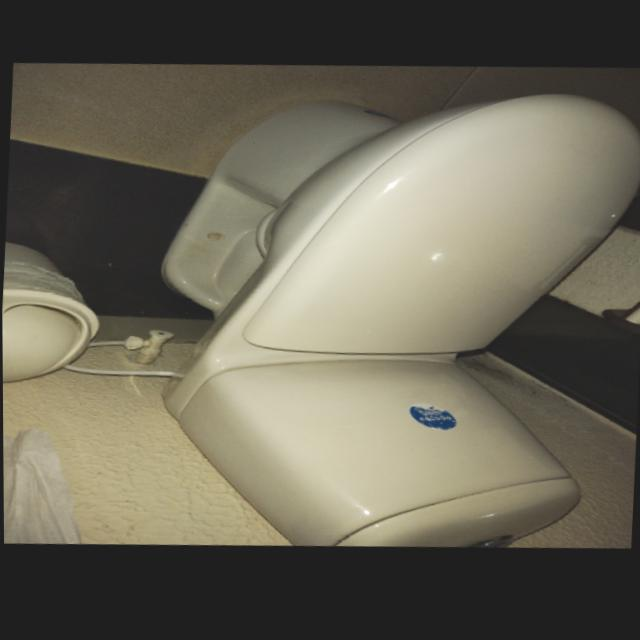toilet: (144, 77, 640, 573)
